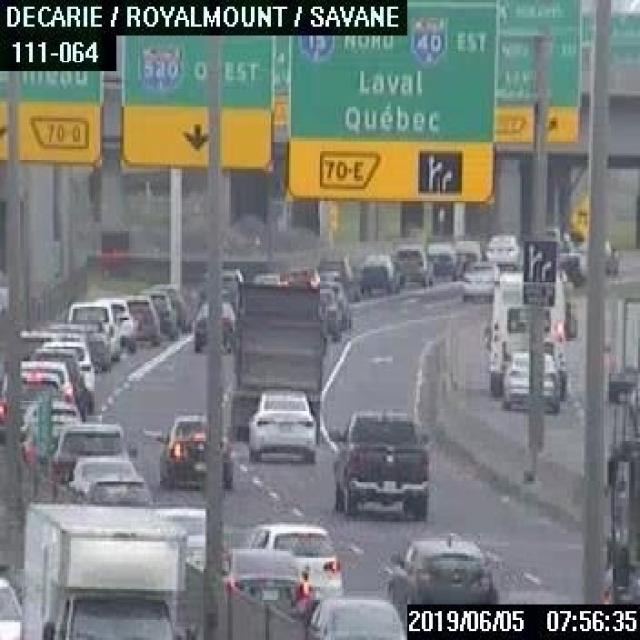bus: (482, 273, 566, 392)
vehicle: (22, 500, 186, 637), (233, 280, 320, 444), (329, 407, 429, 518), (384, 533, 501, 623), (220, 547, 308, 621), (250, 521, 341, 591), (154, 409, 232, 489), (247, 387, 315, 464), (51, 422, 138, 482), (303, 595, 406, 638), (66, 456, 151, 504), (40, 340, 93, 410), (501, 349, 558, 410), (606, 294, 638, 399), (66, 300, 120, 359), (46, 319, 108, 367), (160, 498, 203, 560), (191, 300, 236, 352), (94, 296, 135, 351), (116, 294, 158, 346), (389, 241, 434, 286), (148, 281, 188, 329), (136, 289, 174, 337), (315, 253, 353, 299), (357, 253, 398, 293), (460, 259, 499, 300), (200, 265, 242, 301), (0, 576, 24, 638), (320, 280, 350, 326), (482, 232, 520, 267), (318, 286, 340, 341), (426, 242, 456, 278), (454, 238, 480, 272), (0, 368, 5, 433)
